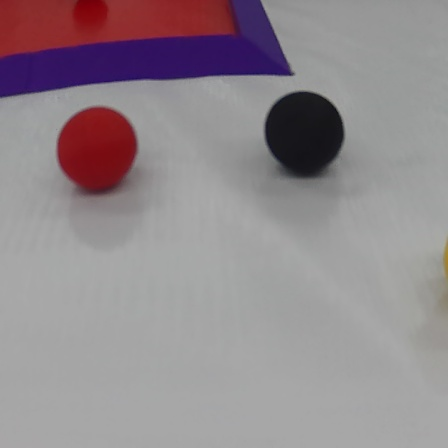black: (262, 91, 350, 176)
red: (50, 106, 140, 197)
red_aim: (2, 0, 298, 100)
